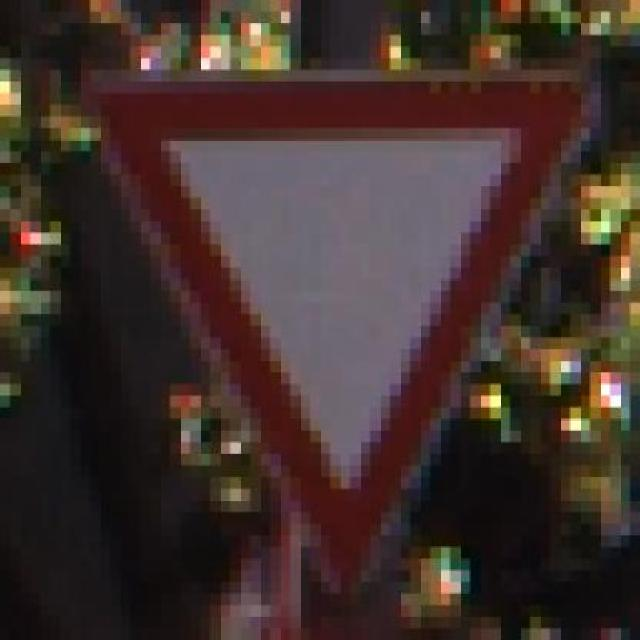Give Way: (90, 35, 610, 593)
